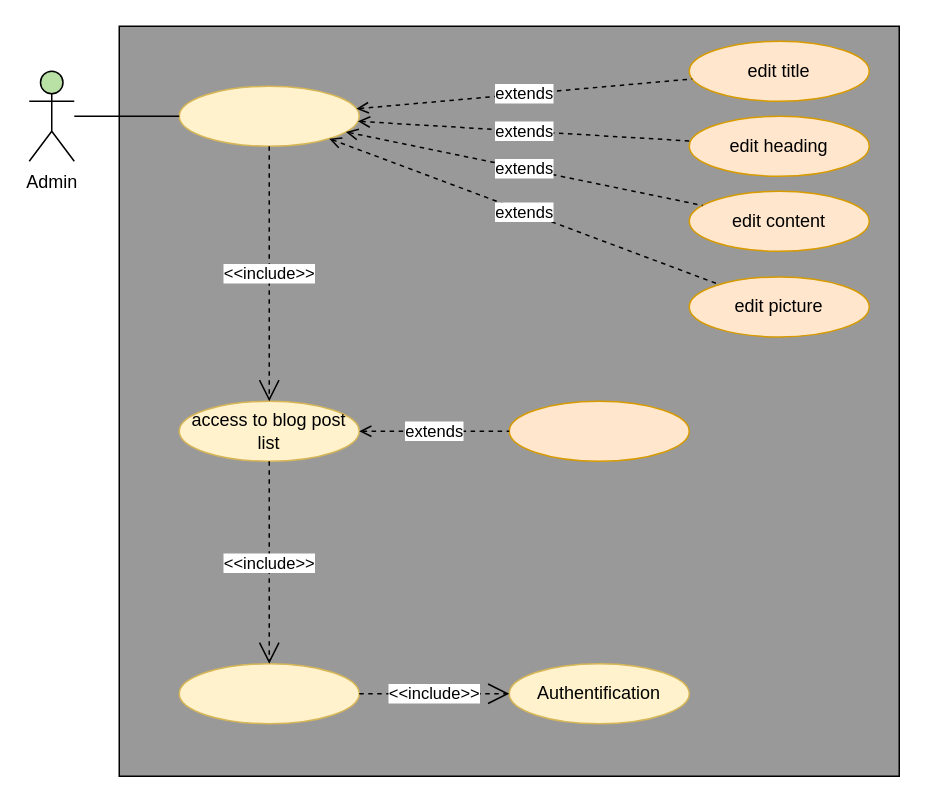
The diagram is 926 pixels wide and 803 high, and some of its shapes have lost their labels. The box of each missing label's shape, as (x1, y1, x2, y2) in pixels:
access to admin interface: (178, 662, 359, 724)
delete post: (508, 400, 689, 461)
edit a post: (178, 85, 359, 146)
